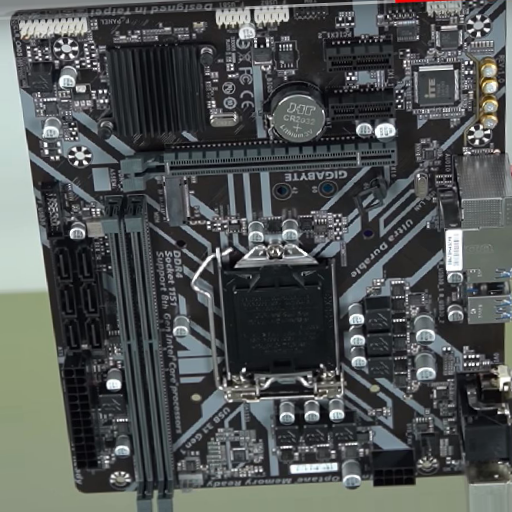CPU: (207, 247, 343, 404)
GPU: (120, 141, 397, 193)
MOTHERBOARD: (11, 2, 510, 491)
RAM: (101, 197, 175, 500)
SSD: (162, 178, 189, 226)
